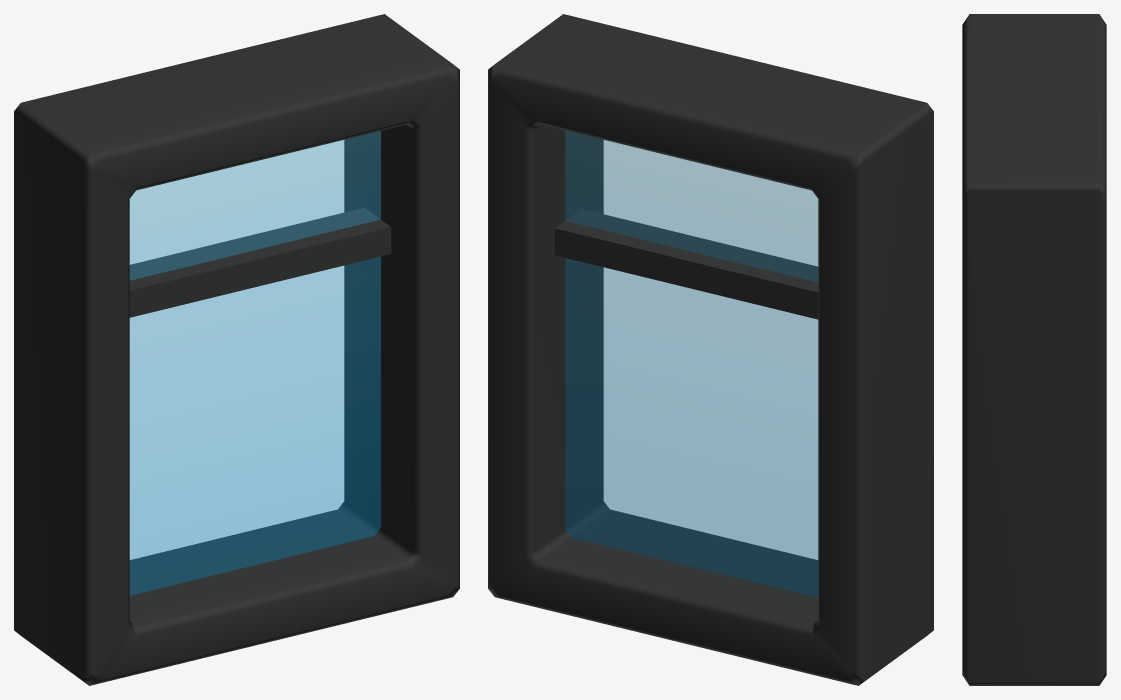
Rendered from Window_Black_11.glb.
3 renders of one model, left to right at view 1: azimuth 30°, elevation 25°; view 2: azimuth 150°, elevation 25°; view 3: azimuth 270°, elevation 25°, orthographic. The views are drawn at different scales.
Parts seen in each view (by area): view 1: Window_Black_11; view 2: Window_Black_11; view 3: Window_Black_11.
Boxes of the visible parts, left/top/right/bottom form: Window_Black_11: left=14, top=14, right=459, bottom=685; Window_Black_11: left=488, top=14, right=933, bottom=685; Window_Black_11: left=962, top=14, right=1106, bottom=685.
Bounding box in the file's own units: 1.14 × 1.54 × 0.4.
Materials: 2 (2 with a texture image).
